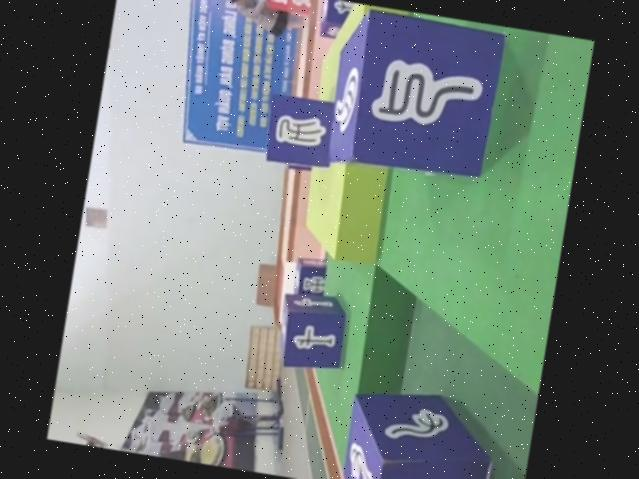R2 Fake Blue: (323, 8, 513, 192), (262, 93, 342, 173), (289, 255, 327, 300)
R2 Real Blue: (339, 380, 505, 479), (274, 292, 354, 379), (289, 255, 327, 300), (315, 0, 355, 38)
